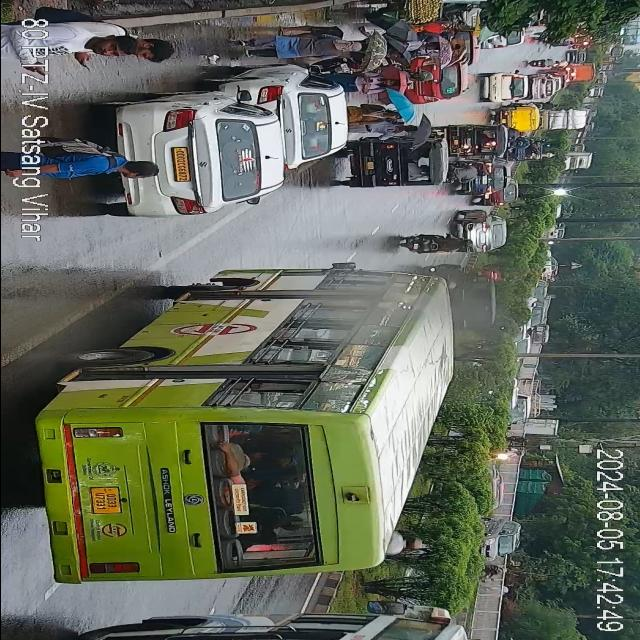2-wheelers: (406, 236, 474, 251), (502, 128, 536, 152), (448, 163, 488, 183), (494, 448, 526, 462), (474, 271, 510, 281), (483, 567, 508, 578), (529, 59, 558, 68), (508, 436, 528, 446), (557, 60, 571, 68), (540, 103, 558, 109)
auto: (343, 128, 450, 190), (446, 123, 510, 157), (495, 104, 539, 130), (510, 147, 546, 163)
bus: (47, 269, 459, 585), (145, 576, 501, 640), (250, 599, 493, 640), (39, 616, 387, 640)
car: (106, 81, 282, 221), (238, 69, 348, 165), (408, 61, 472, 102), (458, 208, 508, 252), (481, 517, 521, 563), (458, 159, 508, 194), (481, 72, 525, 102), (451, 34, 481, 70), (478, 186, 516, 206), (528, 76, 552, 98), (540, 68, 576, 78), (550, 77, 564, 93)
pedestrian: (47, 153, 164, 185), (74, 33, 172, 70), (246, 35, 360, 59), (343, 106, 426, 138), (284, 26, 389, 40), (404, 36, 449, 61), (341, 74, 396, 94), (407, 66, 432, 84)
truck: (541, 110, 589, 132)
